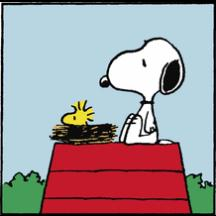snoopy: (98, 35, 186, 146)
